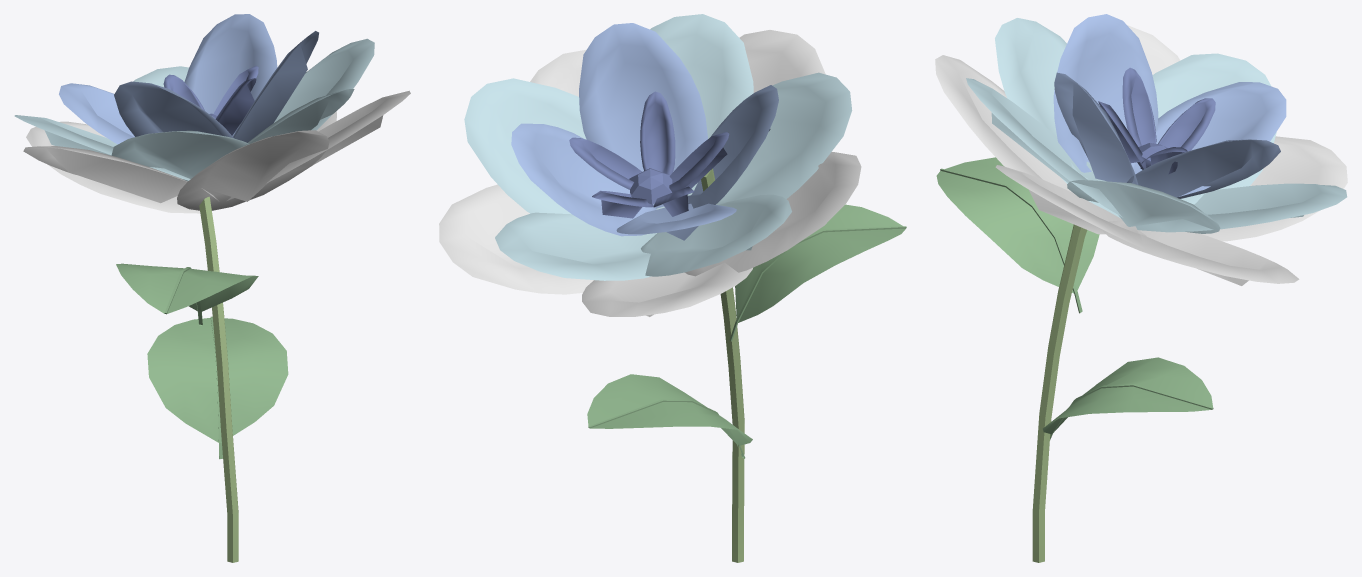
The model's file is flower1 1.fbx.
3 renders of one model, left to right at view 1: azimuth 30°, elevation 25°; view 2: azimuth 150°, elevation 25°; view 3: azimuth 270°, elevation 25°, orthographic. The views are drawn at different scales.
Parts seen in each view (by area): view 1: pPlane67, pPlane76, pPlane81, pPlane68, pPlane71, pCylinder26, pPlane79, pPlane69, pPlane85, pPlane83, pPlane78, pPlane82 (+7 smaller); view 2: pPlane83, pPlane69, pPlane85, pPlane84, pPlane68, pPlane80, pPlane81, pPlane72, pPlane73, pPlane67, pPlane71, pPlane70 (+11 smaller); view 3: pPlane68, pPlane79, pPlane67, pPlane69, pPlane84, pPlane81, pPlane82, pPlane80, pCylinder26, pPlane76, pPlane70, pPlane83 (+8 smaller).
Part boxes in pixels (box(x1,y1,x2,y2)): pPlane67: box(147, 316, 288, 459); pPlane76: box(177, 130, 329, 210); pPlane81: box(184, 14, 277, 136); pPlane68: box(116, 263, 258, 325); pPlane71: box(23, 146, 218, 203); pCylinder26: box(199, 196, 238, 562); pPlane79: box(114, 81, 233, 138); pPlane69: box(111, 130, 249, 181); pPlane85: box(274, 38, 374, 130); pPlane83: box(233, 31, 318, 142); pPlane78: box(227, 90, 410, 200); pPlane82: box(59, 83, 134, 144); pPlane83: box(579, 23, 707, 208); pPlane69: box(716, 72, 852, 204); pPlane85: box(464, 78, 586, 214); pPlane84: box(495, 212, 656, 280); pPlane68: box(729, 204, 906, 341); pPlane80: box(439, 184, 593, 294); pPlane81: box(511, 123, 656, 236); pPlane72: box(650, 14, 753, 209); pPlane73: box(641, 194, 791, 276); pPlane67: box(587, 374, 752, 458); pPlane71: box(685, 152, 861, 276); pPlane70: box(582, 262, 752, 316); pPlane68: box(936, 157, 1099, 313); pPlane79: box(1053, 14, 1158, 172); pPlane67: box(1043, 357, 1213, 439); pPlane69: box(995, 18, 1120, 218); pPlane84: box(1135, 183, 1347, 232); pPlane81: box(1127, 139, 1280, 198); pPlane82: box(1133, 82, 1286, 196); pPlane80: box(1103, 220, 1299, 285); pCylinder26: box(1032, 224, 1087, 562); pPlane76: box(935, 55, 1072, 192); pPlane70: box(1200, 136, 1347, 241); pPlane83: box(1054, 72, 1138, 184).
Bounding box in the file's own units: 0.6948 × 0.943 × 0.6638.
